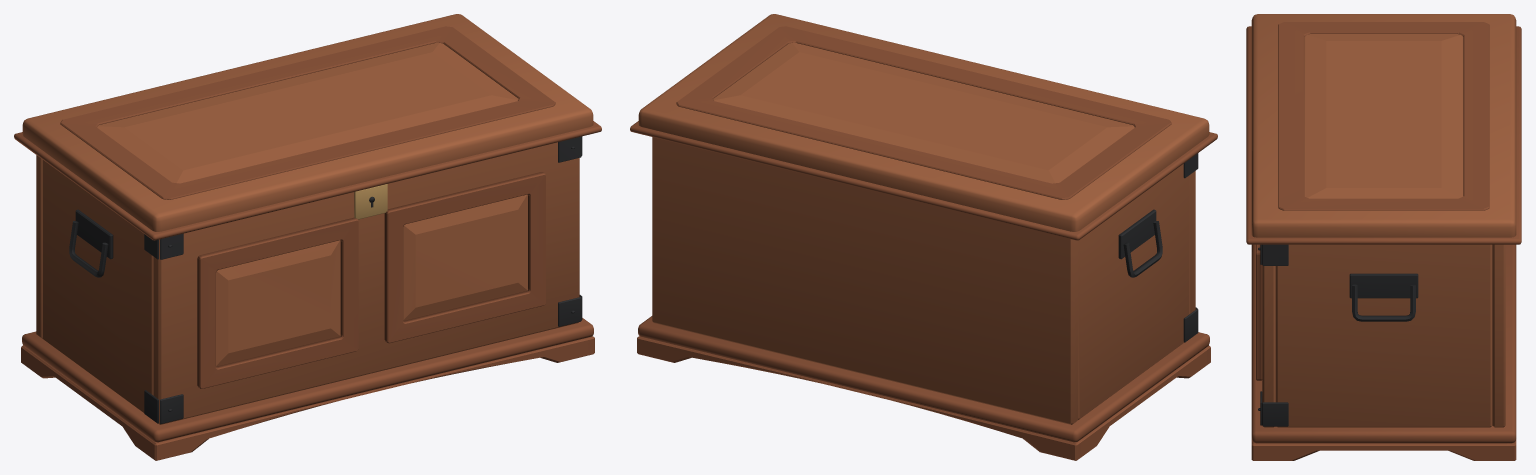
Rendered from cedarChest.glb.
The picture shows the model from 3 angles, left to right: view 1: azimuth 30°, elevation 25°; view 2: azimuth 150°, elevation 25°; view 3: azimuth 270°, elevation 25°; orthographic projection. The views are drawn at different scales.
Parts seen in each view (by area): view 1: cedarChest, lid; view 2: cedarChest, lid; view 3: lid, cedarChest.
Boxes of the visible parts, x1,y1,x2,y2 form: cedarChest: [21, 136, 594, 460]; lid: [14, 14, 601, 240]; cedarChest: [637, 137, 1210, 460]; lid: [630, 14, 1217, 240]; lid: [1246, 14, 1521, 244]; cedarChest: [1251, 244, 1516, 460].
Bounding box in the file's own units: 0.96 × 0.505 × 0.52.
